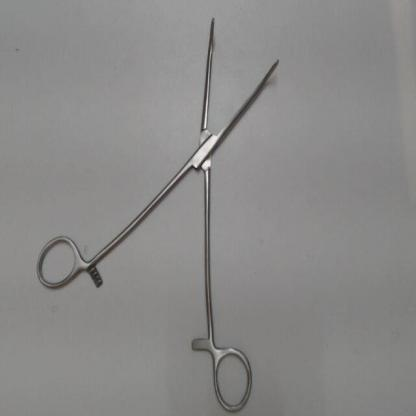Lahey Forceps: (27, 10, 289, 414)
